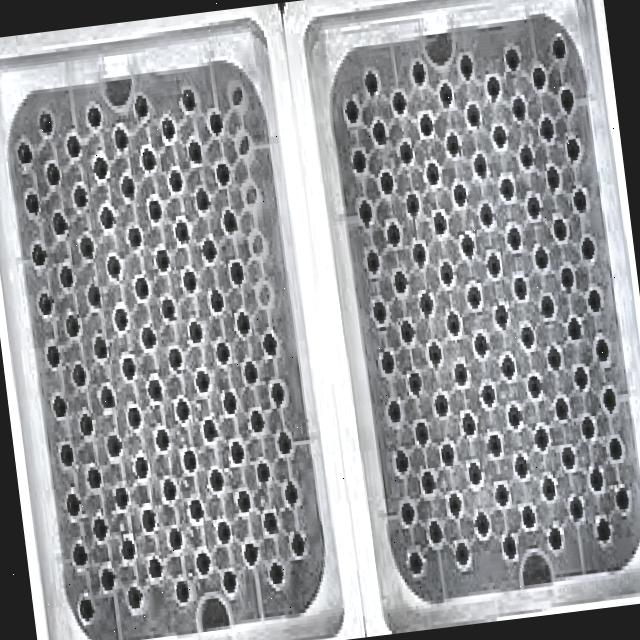vial: (59, 442, 74, 466), (31, 243, 45, 267), (52, 394, 66, 418), (548, 526, 562, 550), (546, 165, 559, 190), (202, 239, 216, 262), (100, 384, 114, 407), (134, 454, 148, 477), (196, 551, 210, 574), (79, 598, 93, 621), (128, 585, 142, 608), (66, 492, 79, 516), (270, 381, 283, 405), (552, 35, 565, 59), (512, 96, 525, 120), (540, 116, 553, 140), (420, 291, 433, 315), (400, 319, 413, 343), (18, 141, 31, 164), (39, 111, 52, 134), (25, 191, 38, 214), (73, 185, 86, 208), (53, 211, 66, 234), (230, 261, 243, 284), (210, 289, 223, 312), (223, 390, 236, 413), (230, 440, 243, 463), (73, 543, 86, 566), (553, 217, 566, 240), (421, 470, 434, 493), (428, 520, 441, 543), (476, 512, 489, 535), (522, 504, 535, 527), (66, 135, 80, 156), (195, 189, 209, 210), (38, 294, 52, 315), (79, 414, 93, 435), (107, 436, 121, 457), (189, 498, 203, 519), (93, 517, 107, 538), (263, 331, 275, 355), (292, 532, 304, 556), (582, 236, 594, 260), (182, 88, 195, 110), (80, 235, 93, 257), (60, 265, 73, 287), (115, 486, 128, 508), (217, 520, 230, 542), (244, 543, 257, 565), (101, 567, 114, 589), (345, 100, 358, 122), (573, 188, 586, 210), (428, 343, 441, 365), (415, 422, 428, 444), (395, 450, 408, 472), (468, 462, 481, 484), (609, 437, 622, 459), (66, 314, 78, 337), (47, 344, 59, 367), (95, 336, 107, 359), (278, 432, 290, 455), (365, 71, 377, 94), (533, 66, 545, 89), (393, 90, 405, 113), (373, 121, 385, 144), (381, 171, 393, 194), (508, 227, 520, 250), (440, 261, 452, 284), (447, 311, 459, 334), (590, 468, 602, 491), (543, 476, 555, 499), (597, 518, 609, 541), (504, 534, 516, 557), (409, 551, 421, 574), (188, 141, 201, 162), (142, 149, 155, 170), (94, 157, 107, 178), (46, 163, 59, 184), (216, 163, 229, 184), (100, 207, 113, 228), (107, 255, 120, 276), (87, 285, 100, 306), (135, 277, 148, 298), (114, 308, 127, 329), (216, 342, 229, 363), (122, 358, 135, 379), (72, 364, 85, 385), (148, 378, 161, 399), (196, 370, 209, 391), (176, 400, 189, 421), (127, 406, 140, 427), (156, 428, 169, 449), (250, 409, 263, 430), (87, 467, 100, 488), (237, 490, 250, 511), (175, 581, 188, 602), (223, 571, 236, 592), (270, 563, 283, 584), (505, 48, 518, 69), (566, 138, 579, 159), (461, 235, 474, 256), (535, 247, 548, 268), (474, 333, 487, 354), (381, 352, 394, 373), (488, 434, 501, 455), (441, 444, 454, 465), (210, 112, 222, 134), (169, 347, 181, 369), (244, 361, 256, 383), (169, 528, 181, 550), (264, 510, 276, 532), (420, 114, 432, 136), (561, 88, 573, 110), (493, 126, 505, 148), (447, 134, 459, 156), (468, 285, 480, 307), (373, 301, 385, 323), (542, 295, 554, 317), (521, 325, 533, 347), (409, 371, 420, 395), (454, 363, 466, 385), (603, 387, 615, 409), (582, 417, 594, 439), (401, 502, 413, 524), (456, 542, 468, 564), (87, 106, 100, 126), (142, 327, 155, 347), (203, 420, 216, 440), (211, 468, 222, 491), (135, 96, 147, 117), (162, 118, 174, 139), (169, 171, 181, 192), (149, 199, 161, 220), (223, 211, 235, 232), (156, 249, 168, 270), (183, 269, 195, 290), (189, 322, 201, 343), (237, 311, 249, 332), (183, 450, 195, 471), (163, 478, 175, 499), (143, 509, 155, 530), (285, 482, 297, 503), (413, 62, 425, 83), (460, 56, 472, 77), (488, 76, 500, 97), (467, 104, 479, 125), (426, 163, 438, 184), (474, 154, 486, 175), (454, 185, 466, 206), (406, 193, 418, 214), (387, 223, 399, 244), (434, 213, 446, 234), (480, 205, 492, 226), (527, 197, 539, 218), (413, 243, 425, 264), (394, 271, 406, 292), (561, 267, 573, 288), (495, 305, 507, 326), (588, 289, 600, 310), (502, 356, 514, 377), (548, 347, 560, 368), (575, 367, 587, 388), (528, 376, 540, 397), (482, 384, 494, 405), (435, 394, 447, 415), (388, 400, 400, 421), (462, 414, 474, 435), (508, 406, 520, 427), (555, 398, 567, 419), (496, 484, 508, 505), (449, 494, 461, 515), (571, 498, 583, 519), (616, 488, 628, 509), (256, 462, 269, 481), (500, 179, 513, 198), (360, 201, 371, 223), (114, 127, 126, 147), (122, 540, 134, 560), (149, 557, 161, 577), (353, 151, 364, 172), (520, 146, 531, 167), (488, 255, 499, 276), (515, 277, 526, 298), (568, 317, 579, 338), (596, 339, 607, 360), (536, 428, 547, 449), (515, 456, 526, 477), (129, 227, 141, 246), (175, 221, 187, 240), (162, 299, 174, 318), (440, 84, 452, 103), (400, 143, 412, 162), (562, 448, 574, 467), (367, 252, 378, 272), (122, 177, 133, 196)
